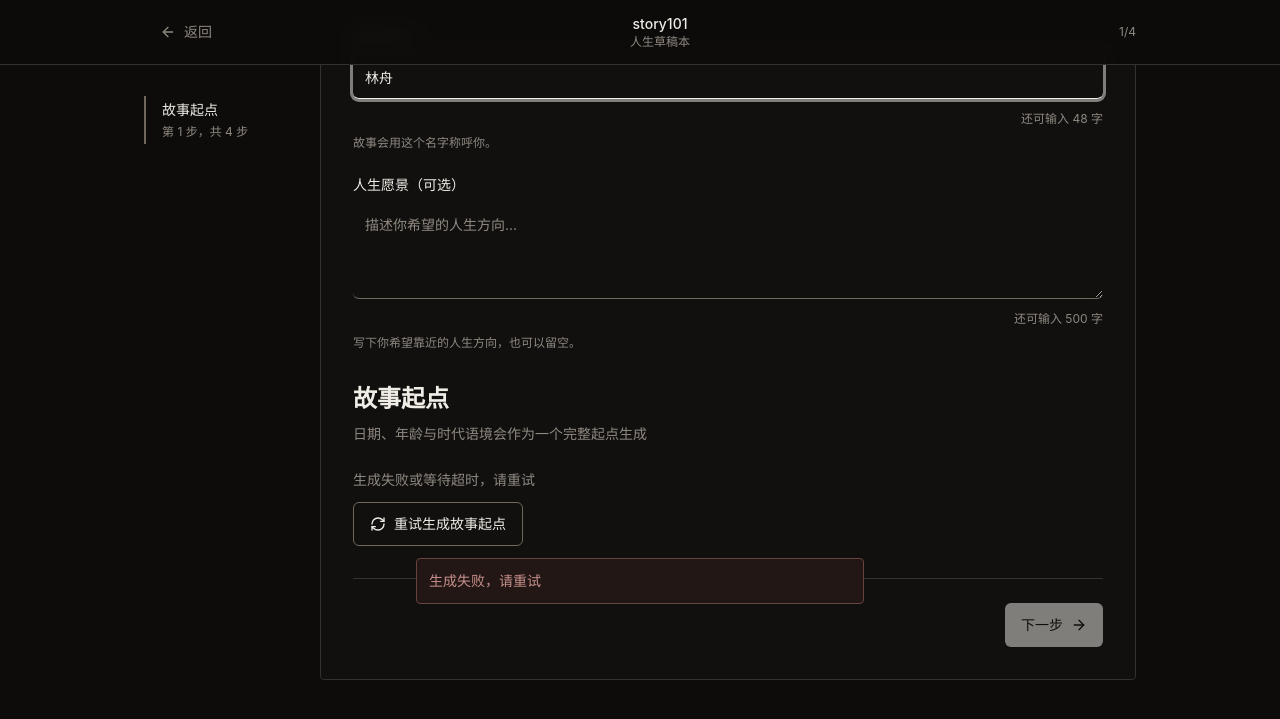
Test: CreatePage › offers a retry when initial story-origin generation fails
(page scrolled)
Step 1. Click the button "重试生成故事起点" → (438, 524), box [353,502,523,546]
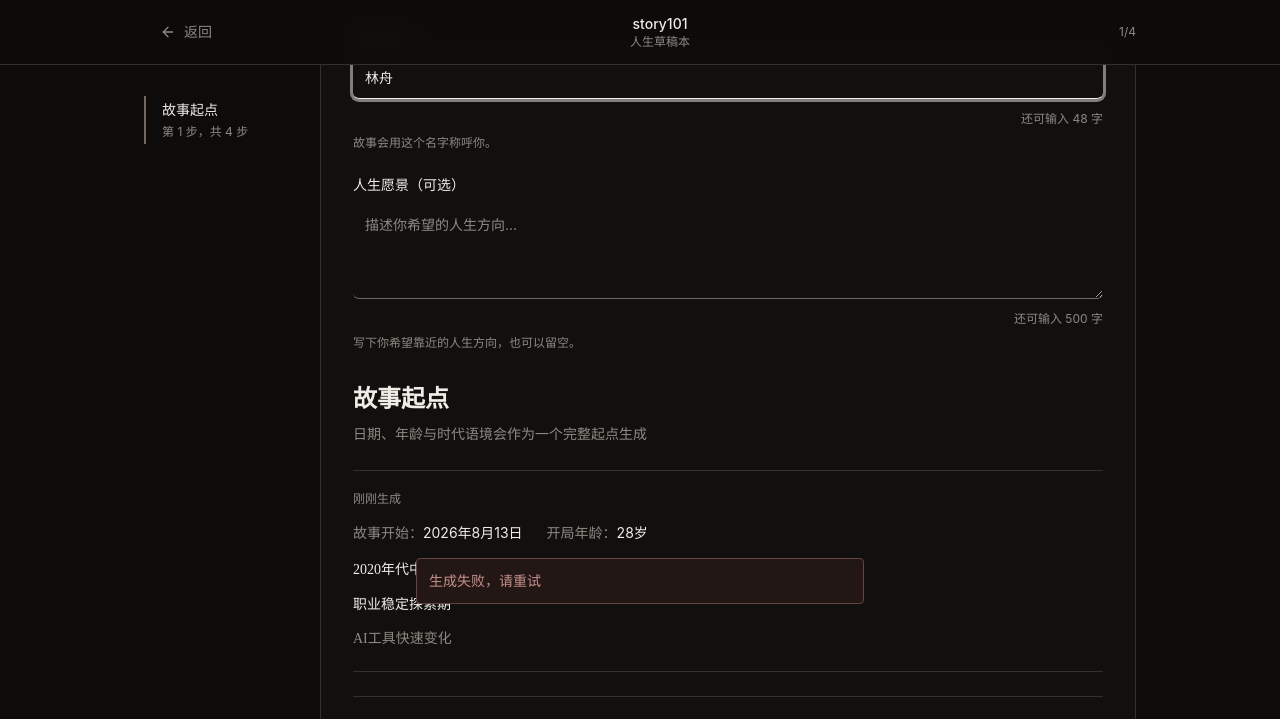
Expected: the text "2020年代中期的现代都市" is shown, [353,562,507,577]
